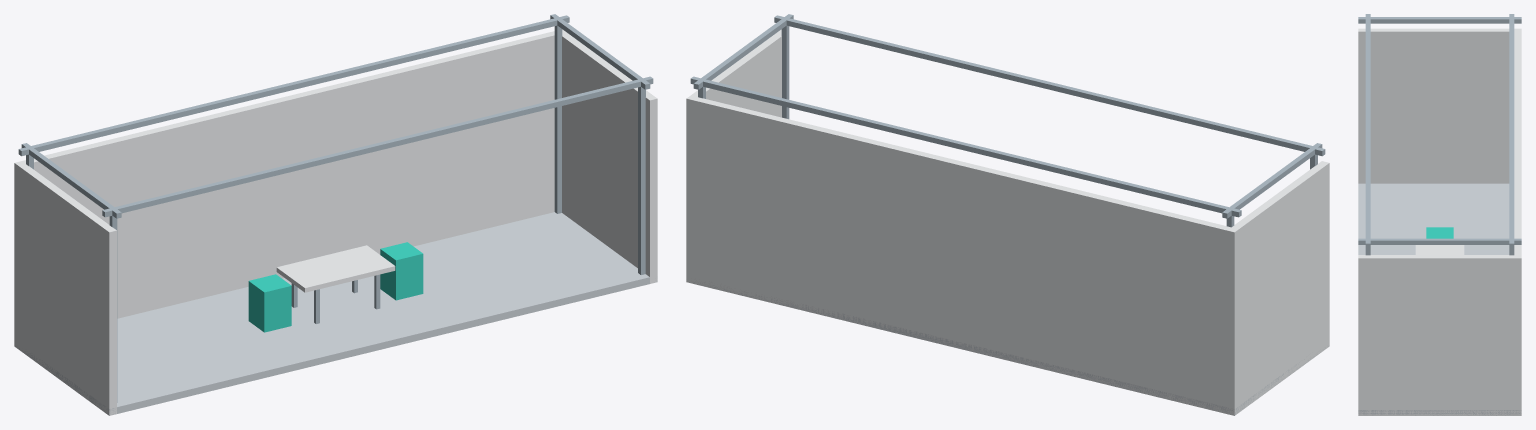
3 views of the same model, side by side, from view 1: azimuth 30°, elevation 25°; view 2: azimuth 150°, elevation 25°; view 3: azimuth 270°, elevation 25° (orthographic). The views are drawn at different scales.
Parts seen in each view (by area): view 1: Exhibition Booth Concept; view 2: Exhibition Booth Concept; view 3: Exhibition Booth Concept.
Part boxes in pixels (bbox=[...]): Exhibition Booth Concept: bbox=[14, 14, 657, 415]; Exhibition Booth Concept: bbox=[686, 14, 1329, 415]; Exhibition Booth Concept: bbox=[1358, 14, 1521, 415].
Size of the model in its own units: 10 by 3.49 by 3.
